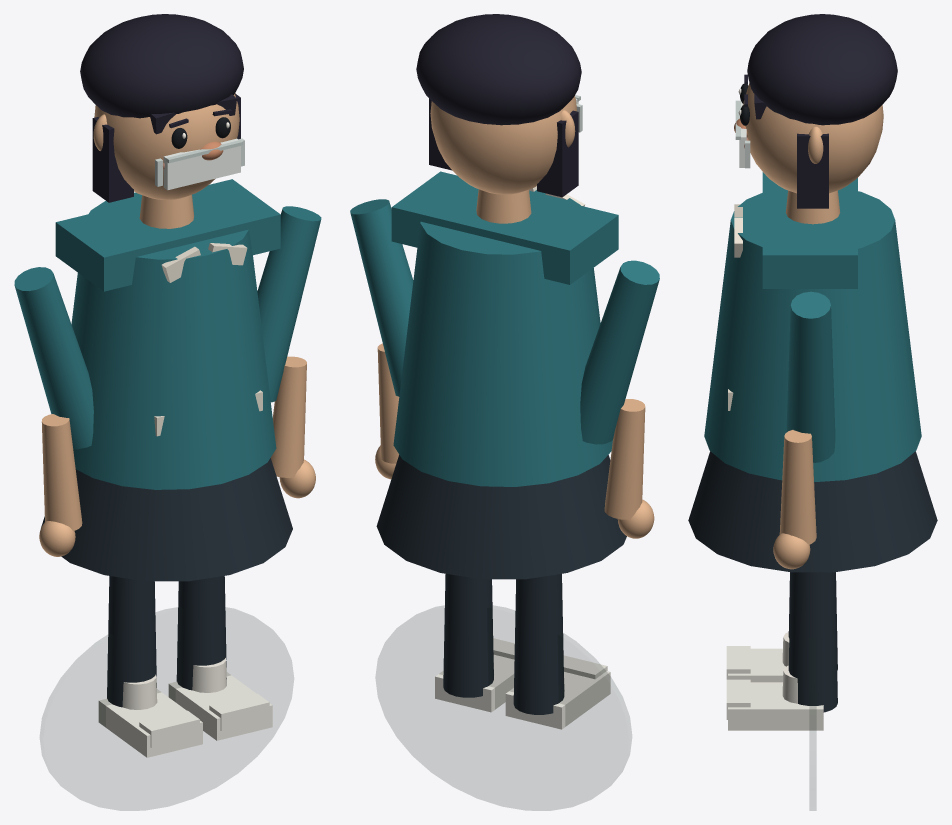
File: customer_01.glb
3 views of the same model, side by side, from view 1: azimuth 30°, elevation 25°; view 2: azimuth 150°, elevation 25°; view 3: azimuth 270°, elevation 25° (orthographic). The views are drawn at different scales.
Visible parts, largest first — view 1: torso, contact_shadow, skirt, hair_cap, shoulder_line, upper_arm_-0.235, upper_arm_0.235, head, leg_-0.075, leg_0.075, forearm_-0.235, forearm_0.235 (+12 smaller); view 2: torso, contact_shadow, skirt, hair_cap, shoulder_line, upper_arm_-0.235, head, leg_-0.075, upper_arm_0.235, leg_0.075, forearm_-0.235, shoe_-0.075 (+6 smaller); view 3: torso, skirt, hair_cap, shoulder_line, upper_arm_0.235, head, leg_0.075, forearm_0.235, shoe_0.075, side_hair_0.115, shoe_-0.075, neck (+5 smaller).
Part boxes in pixels (bbox=[...]): torso: bbox=[71, 192, 276, 489]; contact_shadow: bbox=[40, 607, 293, 810]; skirt: bbox=[41, 458, 292, 581]; hair_cap: bbox=[80, 14, 243, 118]; shoulder_line: bbox=[55, 179, 280, 291]; upper_arm_-0.235: bbox=[14, 267, 93, 449]; upper_arm_0.235: bbox=[257, 206, 321, 402]; head: bbox=[94, 94, 239, 199]; leg_-0.075: bbox=[107, 576, 156, 707]; leg_0.075: bbox=[176, 576, 226, 690]; forearm_-0.235: bbox=[41, 414, 82, 531]; forearm_0.235: bbox=[270, 356, 306, 477]; torso: bbox=[393, 190, 612, 486]; contact_shadow: bbox=[376, 605, 631, 810]; skirt: bbox=[376, 455, 626, 579]; hair_cap: bbox=[416, 14, 581, 125]; shoulder_line: bbox=[391, 171, 618, 284]; upper_arm_-0.235: bbox=[580, 260, 659, 444]; head: bbox=[430, 96, 576, 194]; leg_-0.075: bbox=[513, 574, 564, 714]; upper_arm_0.235: bbox=[350, 199, 413, 396]; leg_0.075: bbox=[443, 574, 493, 697]; forearm_-0.235: bbox=[604, 399, 645, 519]; shoe_-0.075: bbox=[505, 671, 610, 729]; torso: bbox=[704, 191, 921, 482]; skirt: bbox=[688, 451, 937, 572]; hair_cap: bbox=[747, 14, 897, 125]; shoulder_line: bbox=[762, 172, 857, 288]; upper_arm_0.235: bbox=[786, 291, 835, 462]; head: bbox=[743, 83, 883, 193]; leg_0.075: bbox=[788, 572, 837, 712]; forearm_0.235: bbox=[779, 430, 816, 544]; shoe_0.075: bbox=[728, 682, 823, 730]; side_hair_0.115: bbox=[797, 133, 828, 208]; shoe_-0.075: bbox=[728, 648, 785, 682]; neck: bbox=[785, 190, 840, 224].
Bounding box in the file's own units: 0.623 × 1.53 × 0.4512.
